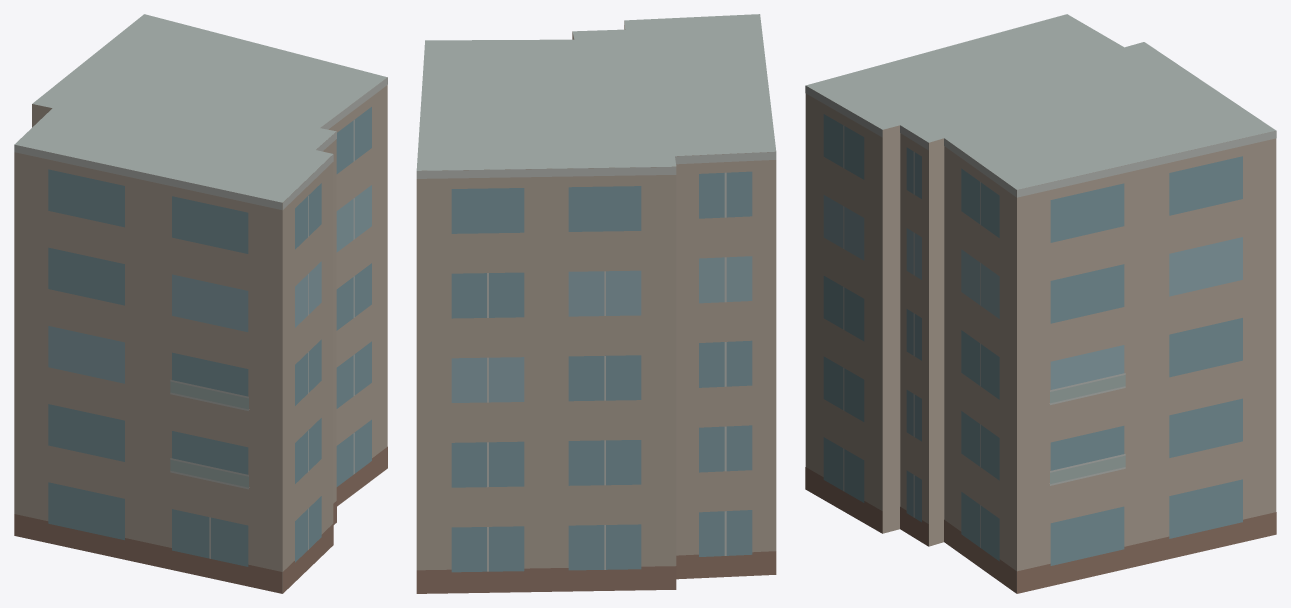
File: survey-upis-32669595.glb
3 renders of one model, left to right at view 1: azimuth 30°, elevation 25°; view 2: azimuth 150°, elevation 25°; view 3: azimuth 270°, elevation 25°, orthographic. The views are drawn at different scales.
Parts seen in each view (by area): view 1: survey-upis-32669595.tmp; view 2: survey-upis-32669595.tmp; view 3: survey-upis-32669595.tmp.
Boxes of the visible parts, x1,y1,x2,y2 form: survey-upis-32669595.tmp: [14, 14, 387, 593]; survey-upis-32669595.tmp: [416, 14, 776, 593]; survey-upis-32669595.tmp: [805, 14, 1276, 593].
Bounding box in the file's own units: 11.87 × 12.7 × 13.43.
